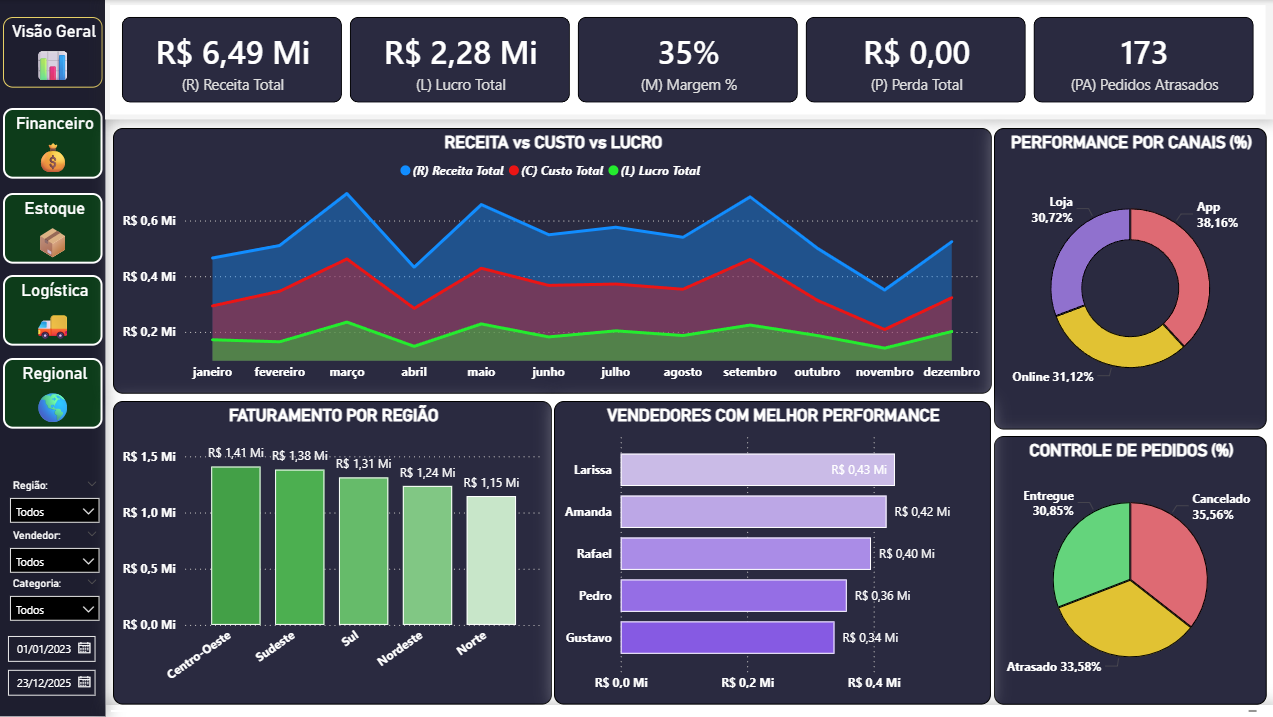

The page's visual inventory and layout, read from the dashboard file:
{"tool":"powerbi","page":{"name":"Visão Geral","canvas":[1280,720],"ordinal":0},"visuals":[{"type":"shape","box":[0,0,106,719.8],"z":0},{"type":"actionButton","title":"Visão Geral","box":[2.9,17.5,100.2,71],"z":1000},{"type":"actionButton","title":"Financeiro","box":[2.9,108.9,100.2,71],"z":2000},{"type":"actionButton","title":"Estoque","box":[2.9,193.6,100.2,71],"z":3000},{"type":"actionButton","title":"Logística","box":[2.9,276.2,100.2,71],"z":4000},{"type":"actionButton","title":"Regional","box":[2.9,359.9,100.2,71],"z":5000},{"type":"cardVisual","fields":{"Data":["Base.(R) Receita Total","Base.(L) Lucro Total","Base.(M) Margem %","Base.(P) Perda Total","Base.(PA) Pedidos Atrasados"]},"box":[105.9,0,1174.1,120.2],"z":6000},{"type":"lineChart","title":"RECEITA vs CUSTO vs LUCRO","fields":{"Category":["Base.Data.Variation.Hierarquia de datas.Mês"],"Y":["Base.(R) Receita Total","Base.(C) Custo Total","Base.(L) Lucro Total"]},"box":[113.4,128.4,882.8,266.8],"z":7000},{"type":"donutChart","title":"PERFORMANCE POR CANAIS (%)","fields":{"Category":["Base.Canal"],"Y":["Base.(R) Receita Total"]},"box":[999.1,128.4,273.9,302.9],"z":8000},{"type":"cardVisual","fields":{"Data":["Base.(SE) Status Estoque"]},"box":[106.3,708.2,1173.7,12],"z":9000},{"type":"clusteredColumnChart","title":"FATURAMENTO POR REGIÃO","fields":{"Category":["Base.Regiao"],"Y":["Base.(R) Receita Total"]},"box":[113.4,403.3,441.4,305],"z":10000},{"type":"pieChart","title":"CONTROLE DE PEDIDOS (%)","fields":{"Category":["Base.Status Pedido"],"Y":["Base.(R) Receita Total"]},"box":[999.1,438.4,273.9,269.8],"z":11000},{"type":"clusteredBarChart","title":"VENDEDORES COM MELHOR PERFORMANCE","fields":{"Category":["Base.Vendedor"],"Y":["Base.(R) Receita Total"]},"box":[557,403,439,305],"z":12000},{"type":"slicer","fields":{"Values":["Base.Data"]},"box":[0,634,105,72],"z":13000},{"type":"slicer","fields":{"Values":["Base.Regiao"]},"box":[0,476,110,59],"z":14000},{"type":"slicer","fields":{"Values":["Base.Vendedor"]},"box":[0,526,110,59],"z":15000},{"type":"slicer","fields":{"Values":["Base.Categoria"]},"box":[0,575,110,59],"z":16000}]}

Visuals, with their boxes in screenshot pixels (x1, y1, x2, y2), scaled from the page's 1280x720 canvas onto the 1273x717 screenshot:
shape: select_region(0, 0, 105, 716)
"Visão Geral" actionButton: select_region(3, 17, 103, 88)
"Financeiro" actionButton: select_region(3, 108, 103, 179)
"Estoque" actionButton: select_region(3, 193, 103, 263)
"Logística" actionButton: select_region(3, 275, 103, 346)
"Regional" actionButton: select_region(3, 358, 103, 429)
cardVisual - Base.(R) Receita Total x Base.(L) Lucro Total: select_region(105, 0, 1272, 120)
"RECEITA vs CUSTO vs LUCRO" lineChart: select_region(113, 128, 991, 394)
"PERFORMANCE POR CANAIS (%)" donutChart: select_region(994, 128, 1266, 430)
cardVisual - Base.(SE) Status Estoque: select_region(106, 705, 1272, 716)
"FATURAMENTO POR REGIÃO" clusteredColumnChart: select_region(113, 402, 552, 705)
"CONTROLE DE PEDIDOS (%)" pieChart: select_region(994, 437, 1266, 705)
"VENDEDORES COM MELHOR PERFORMANCE" clusteredBarChart: select_region(554, 401, 991, 705)
slicer - Base.Data: select_region(0, 631, 104, 703)
slicer - Base.Regiao: select_region(0, 474, 109, 533)
slicer - Base.Vendedor: select_region(0, 524, 109, 583)
slicer - Base.Categoria: select_region(0, 573, 109, 631)
